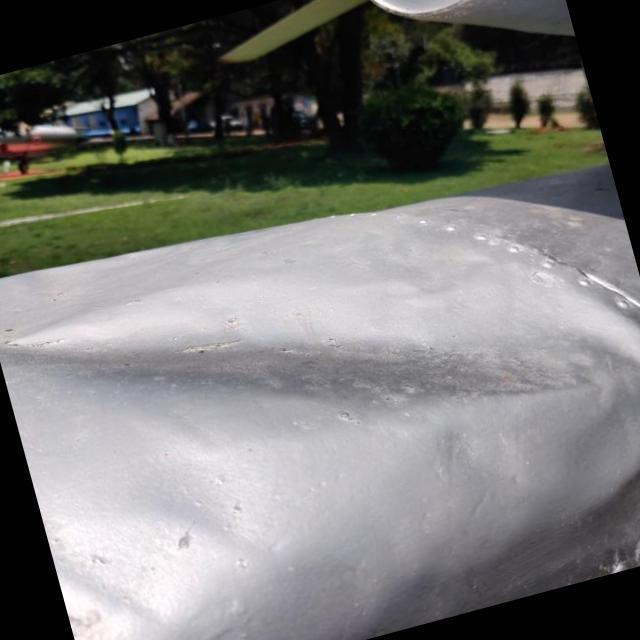Dent: (0, 132, 640, 574), (128, 444, 292, 599), (48, 508, 209, 640)
